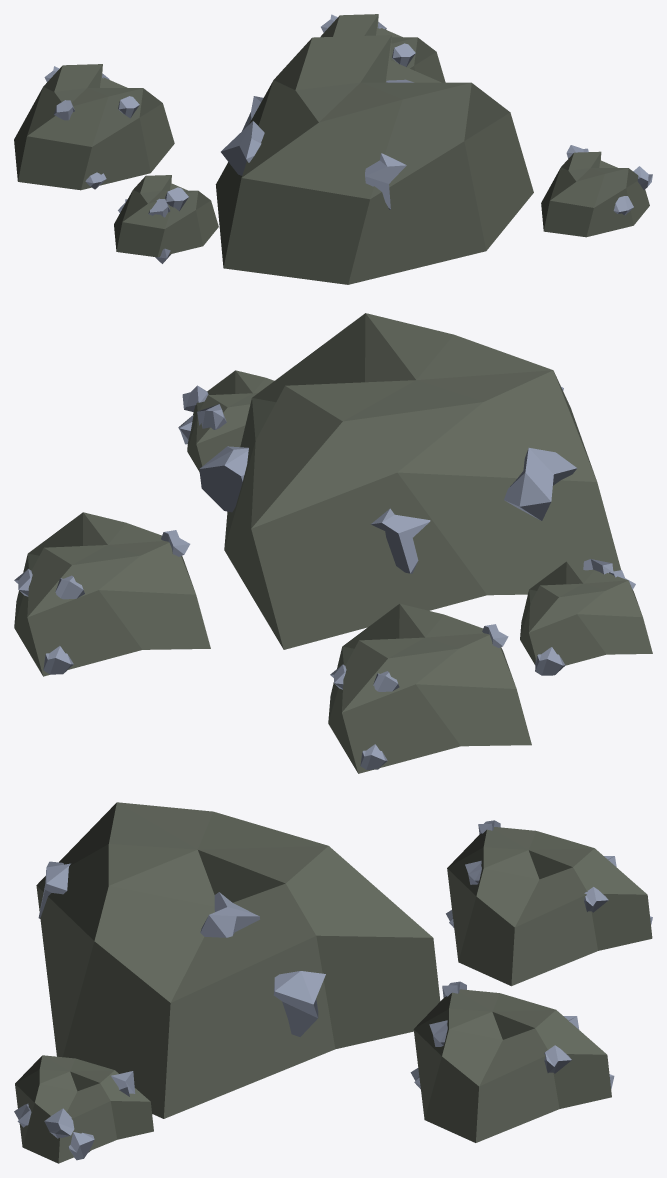
The model's file is stone_iron_ore.fbx.
3 renders of one model, top to bottom at view 1: azimuth 30°, elevation 25°; view 2: azimuth 150°, elevation 25°; view 3: azimuth 270°, elevation 25°, orthographic. The views are drawn at different scales.
Parts seen in each view (by area): view 1: Сфера.003, Сфера, Сфера.002, Сфера.004, Сфера.001, Сфера.009, Сфера.007; view 2: Сфера.003, Сфера, Сфера.001, Сфера.004, Сфера.002, Сфера.009, Сфера.006, Сфера.008; view 3: Сфера.003, Сфера, Сфера.001, Сфера.002, Сфера.006, Сфера.005, Сфера.007, Сфера.002|Сфера.007|Dupli|2, Сфера.002|Сфера.007|Dupli|1.
Part boxes in pixels (x1,y1,x2,y2): Сфера.003: (215,35,533,284); Сфера: (14,64,174,190); Сфера.002: (541,151,649,237); Сфера.004: (114,175,218,257); Сфера.001: (320,14,445,82); Сфера.009: (221,121,264,175); Сфера.007: (365,153,406,209); Сфера.003: (224,313,620,649); Сфера: (328,603,531,773); Сфера.001: (14,512,210,676); Сфера.004: (520,561,652,665); Сфера.002: (187,370,274,471); Сфера.009: (504,448,577,520); Сфера.006: (199,446,248,512); Сфера.008: (371,508,430,573); Сфера.003: (36,802,440,1118); Сфера: (447,827,652,986); Сфера.001: (413,989,611,1142); Сфера.002: (15,1055,153,1163); Сфера.006: (273,971,325,1036); Сфера.005: (200,892,259,937); Сфера.007: (38,861,70,918); Сфера.002|Сфера.007|Dupli|2: (44,1108,74,1138); Сфера.002|Сфера.007|Dupli|1: (68,1132,94,1160).
Size of the model in its own units: 94.92 by 31.96 by 93.26.
